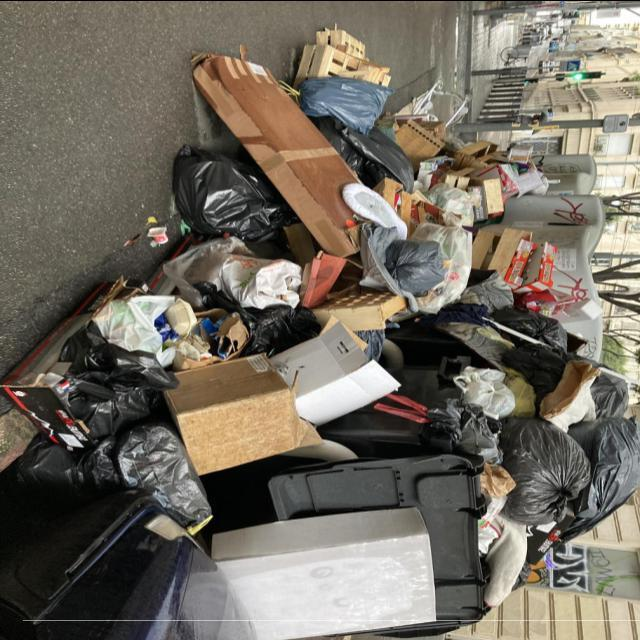Trashbag: (21, 329, 209, 527), (306, 72, 411, 194), (491, 410, 594, 529), (173, 145, 277, 248), (584, 416, 639, 521), (235, 298, 307, 362), (386, 239, 445, 302), (586, 370, 637, 425)
